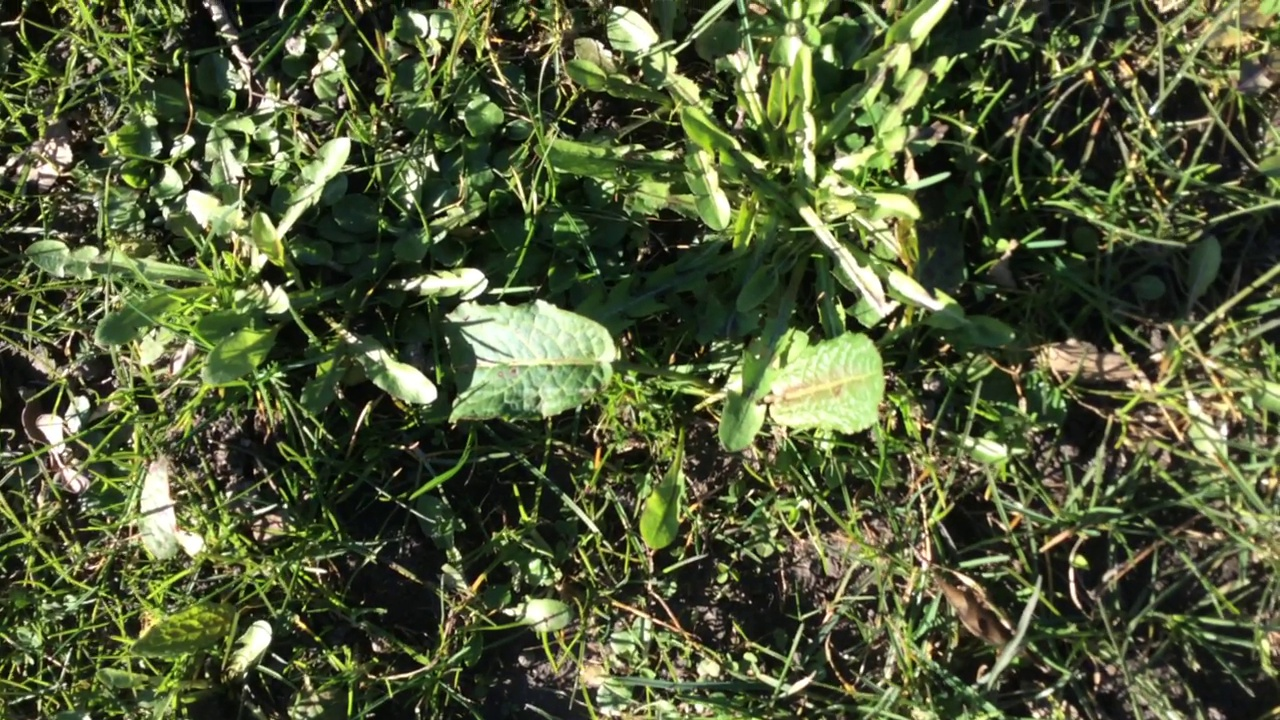rumex: (419, 301, 621, 423), (748, 331, 885, 432)
